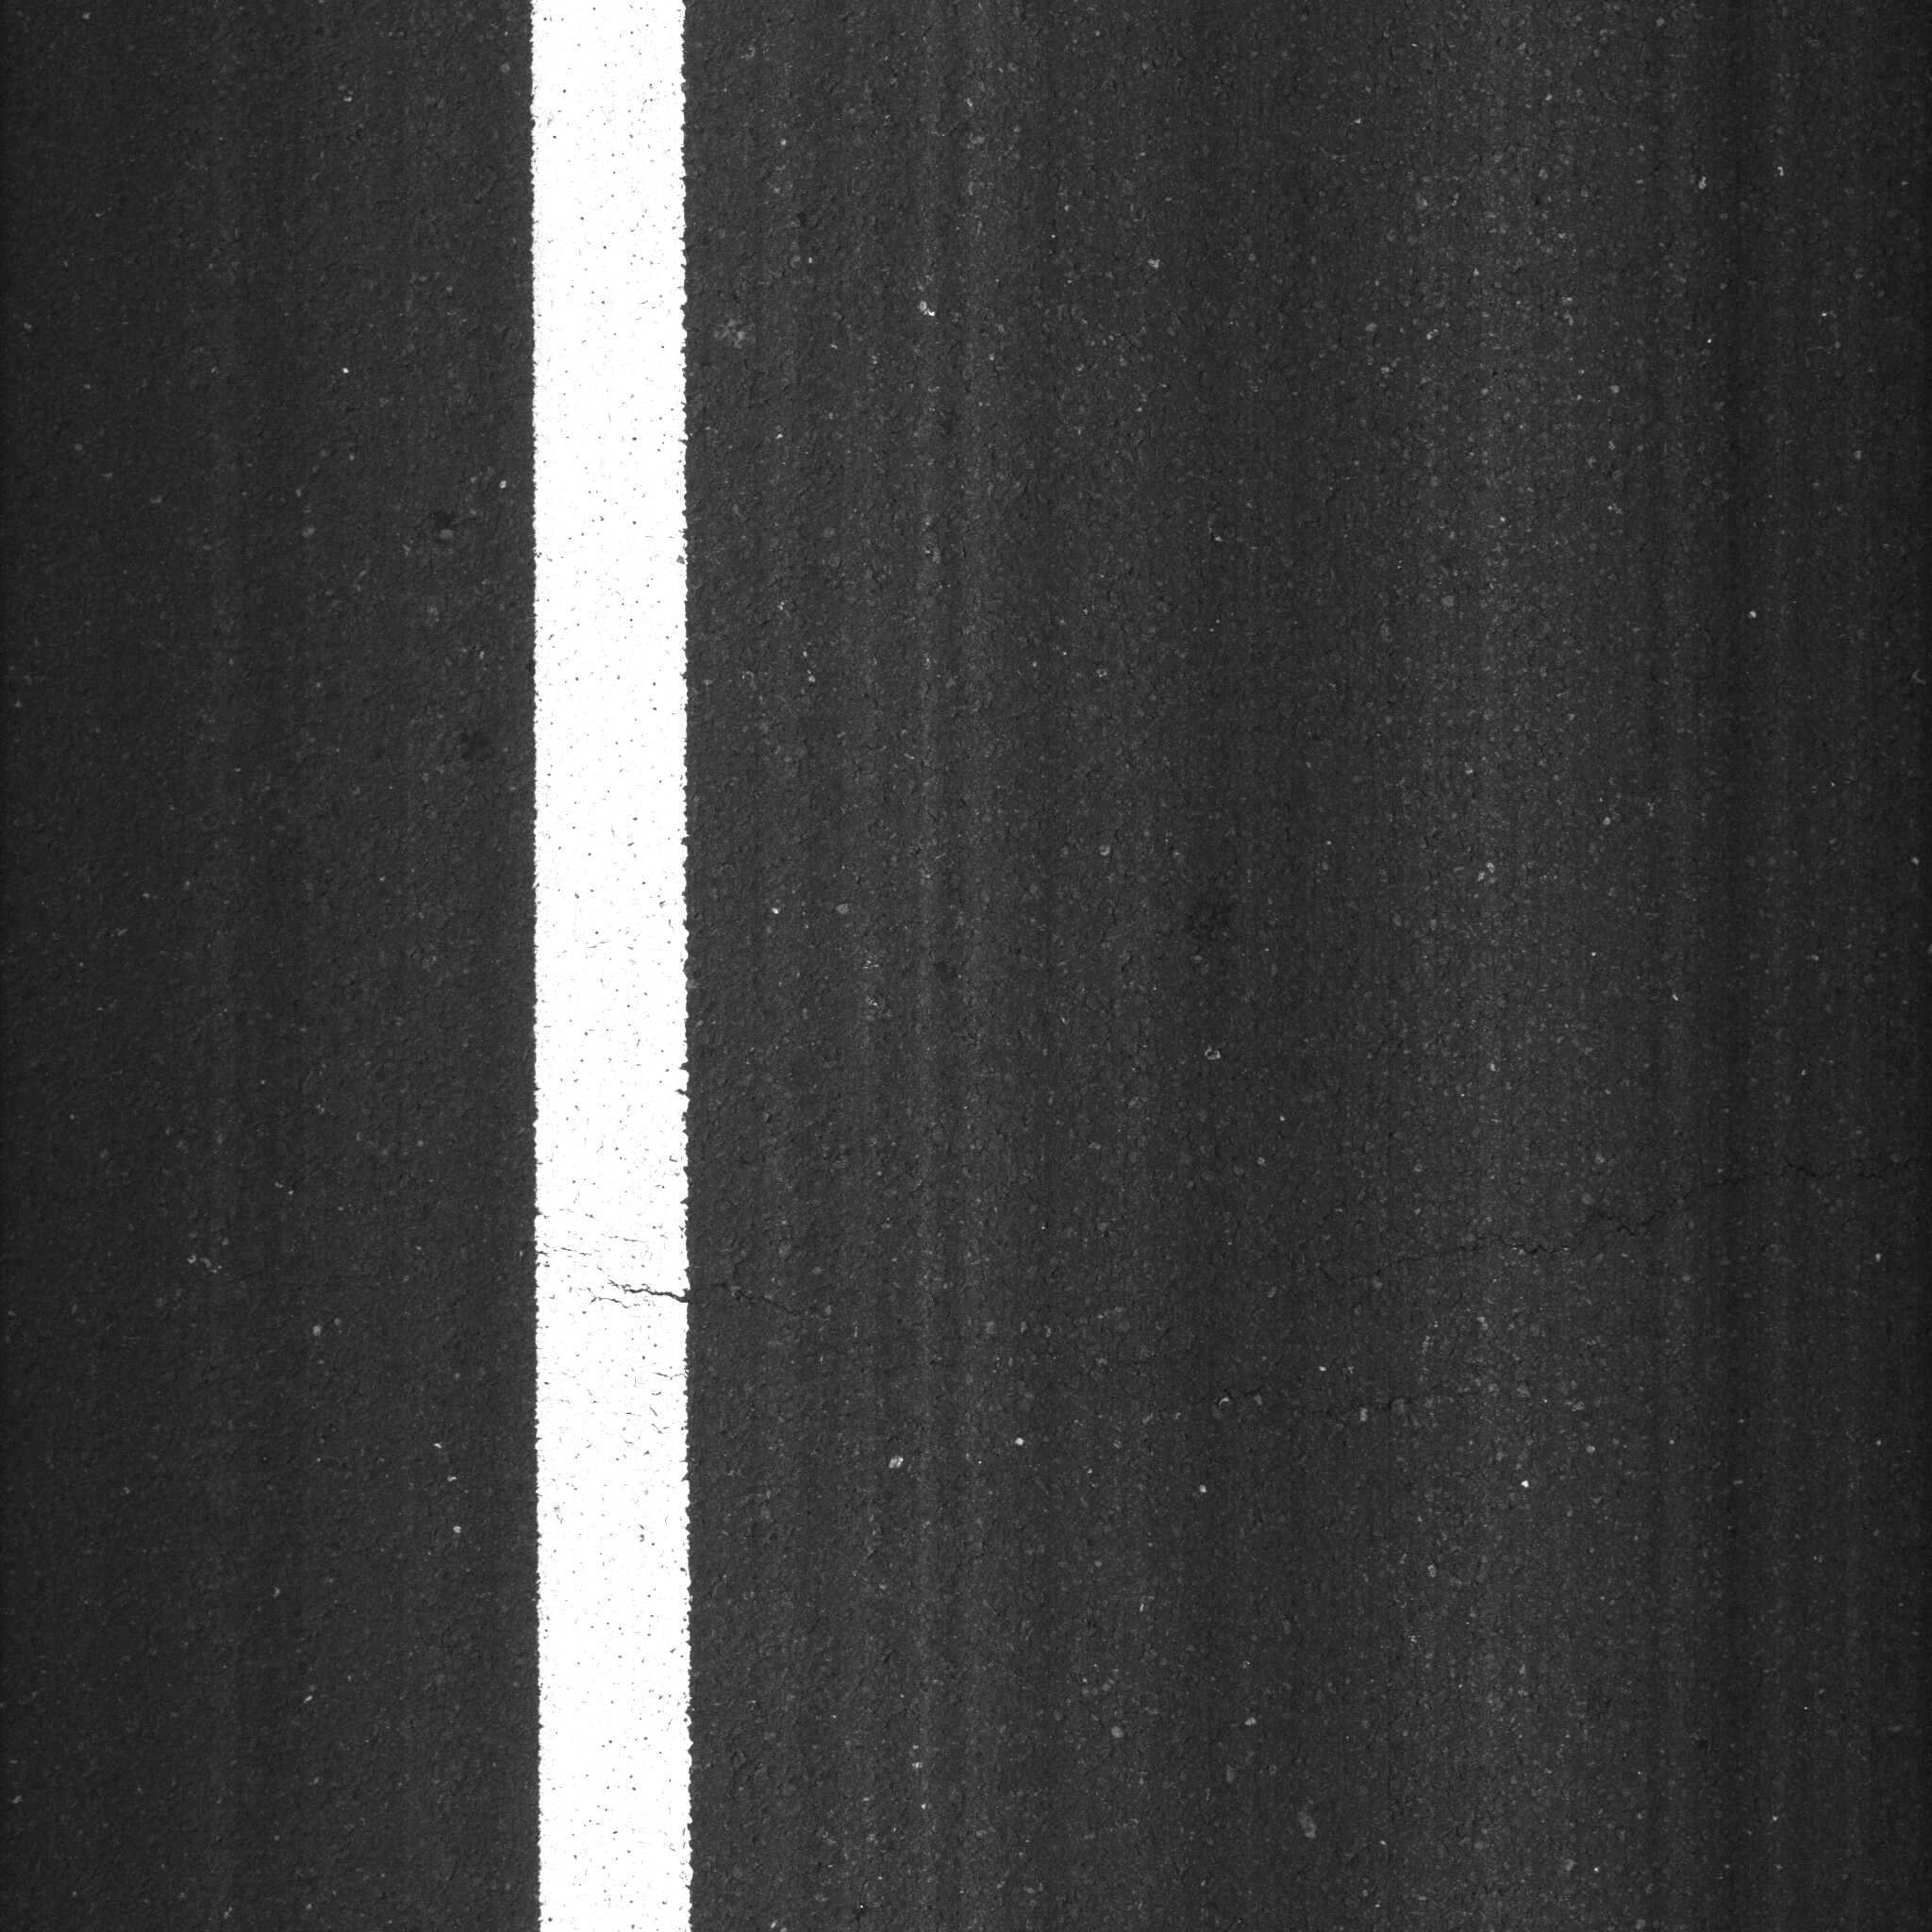transeverse: (1332, 1145, 1932, 1263)
